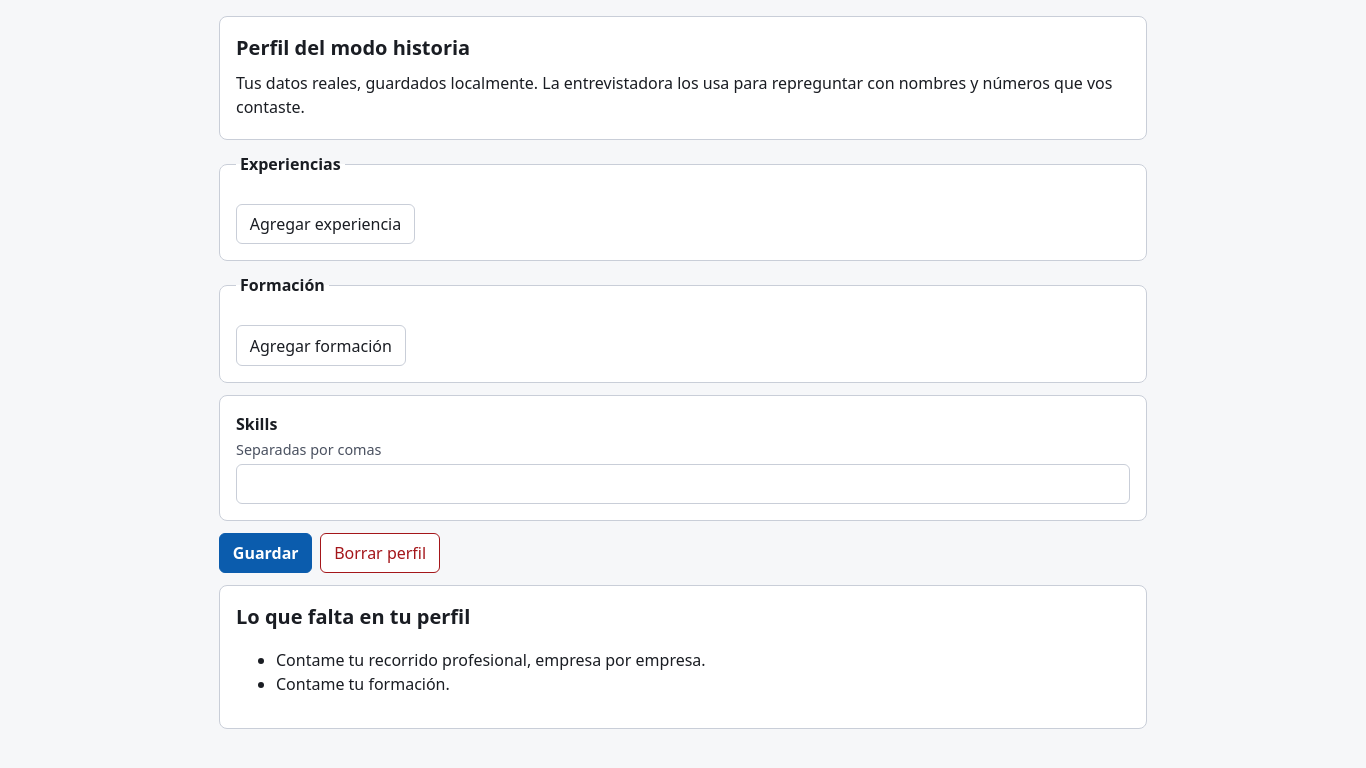
Test case: ProfilePage › 412 muestra conflicto con recarga; borrar pide confirmación
Click the button "Guardar" at (266, 553), box [219,533,312,574]
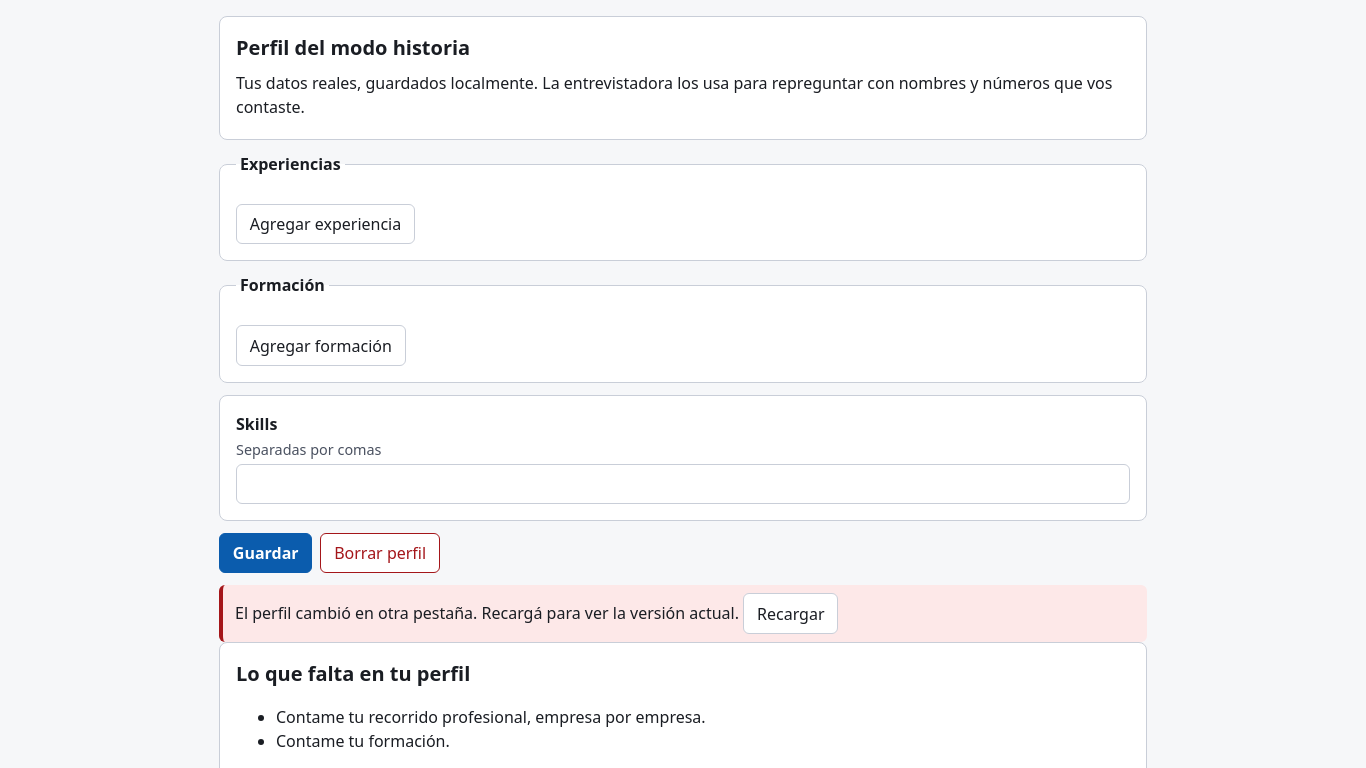
Expected: the text "El perfil cambió en otra pestaña. Recargá para ver la versión actual." is shown, [235,603,739,625]
Click the button "Recargar" at (791, 614), box [743,594,838,634]
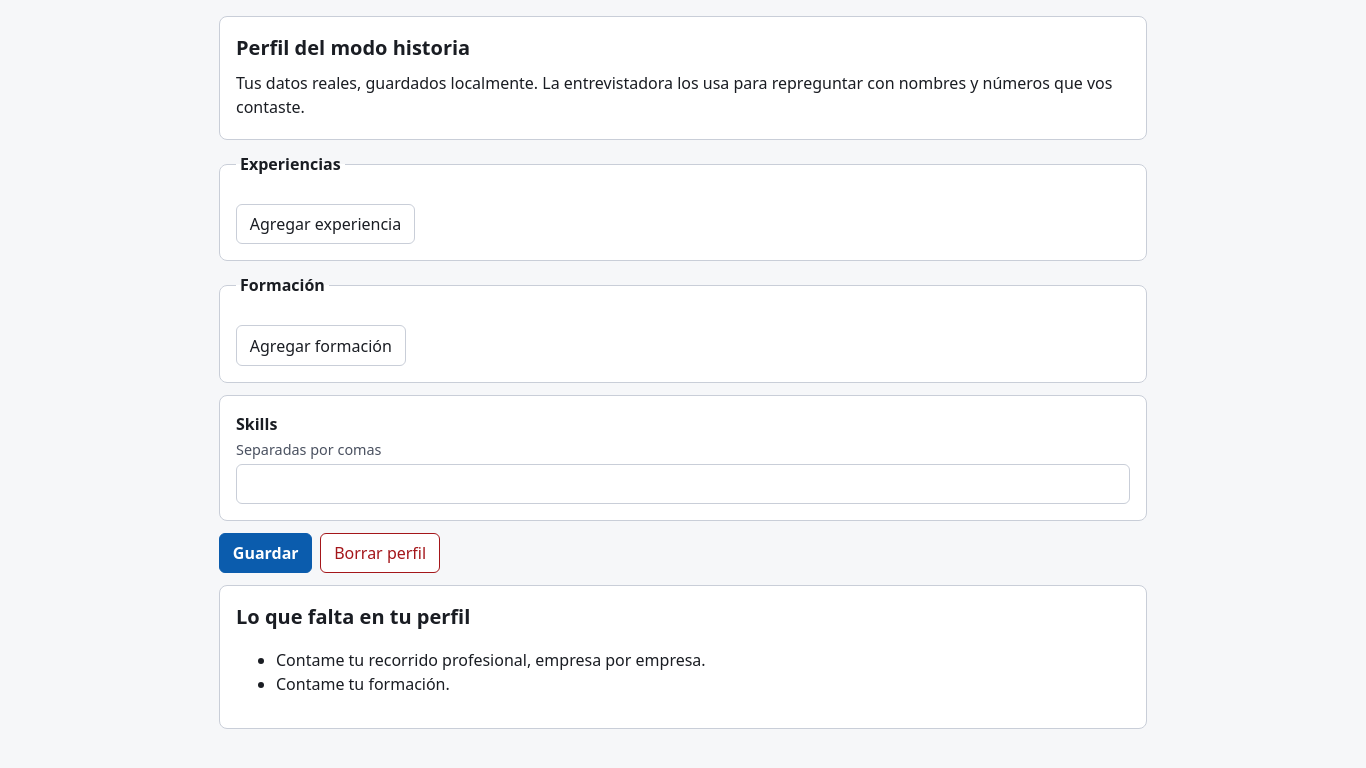
Click the button "Borrar perfil" at (380, 553), box [320,533,440,574]
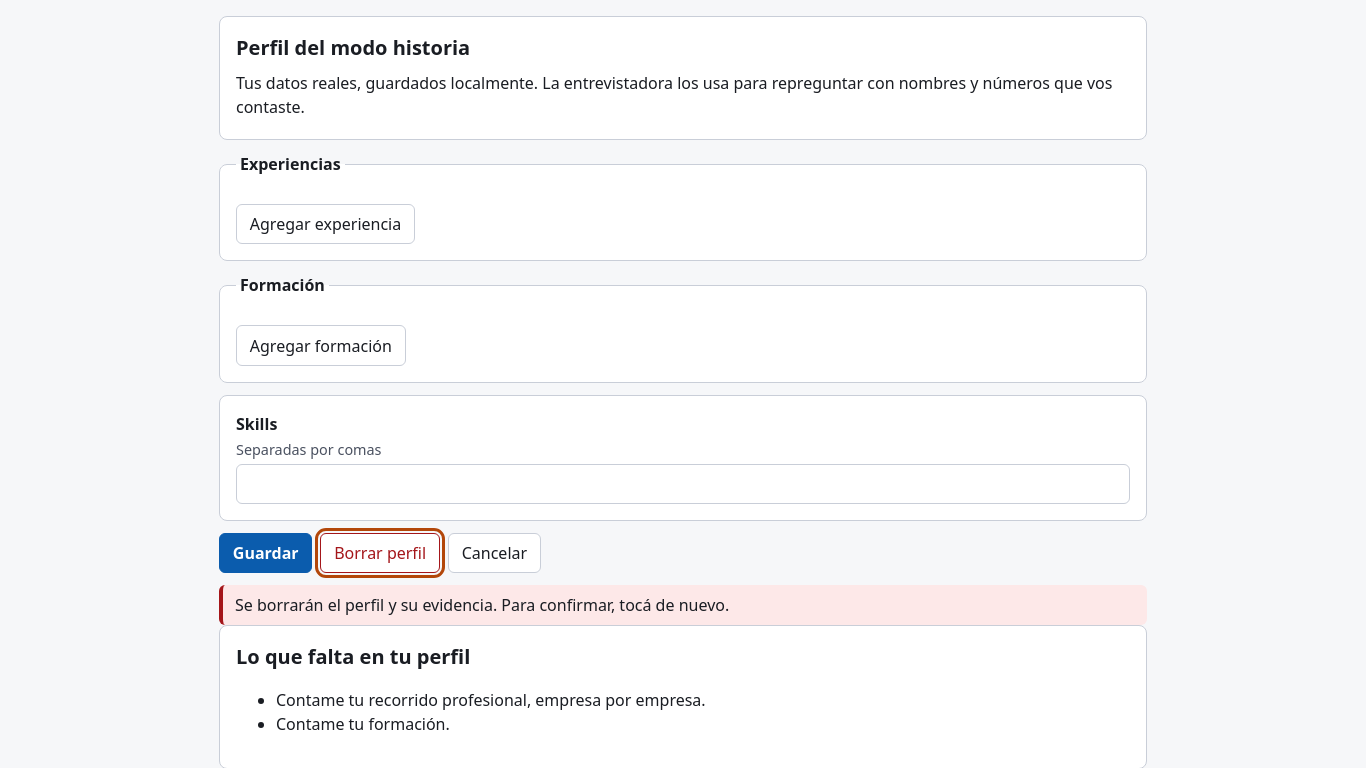
Expected: the message with test id "profile-msg" reads "Se borrarán el perfil y su evidencia. Para confirmar, tocá de nuevo.", [235,594,729,616]
Click the button "Borrar perfil" at (380, 553), box [320,533,440,574]
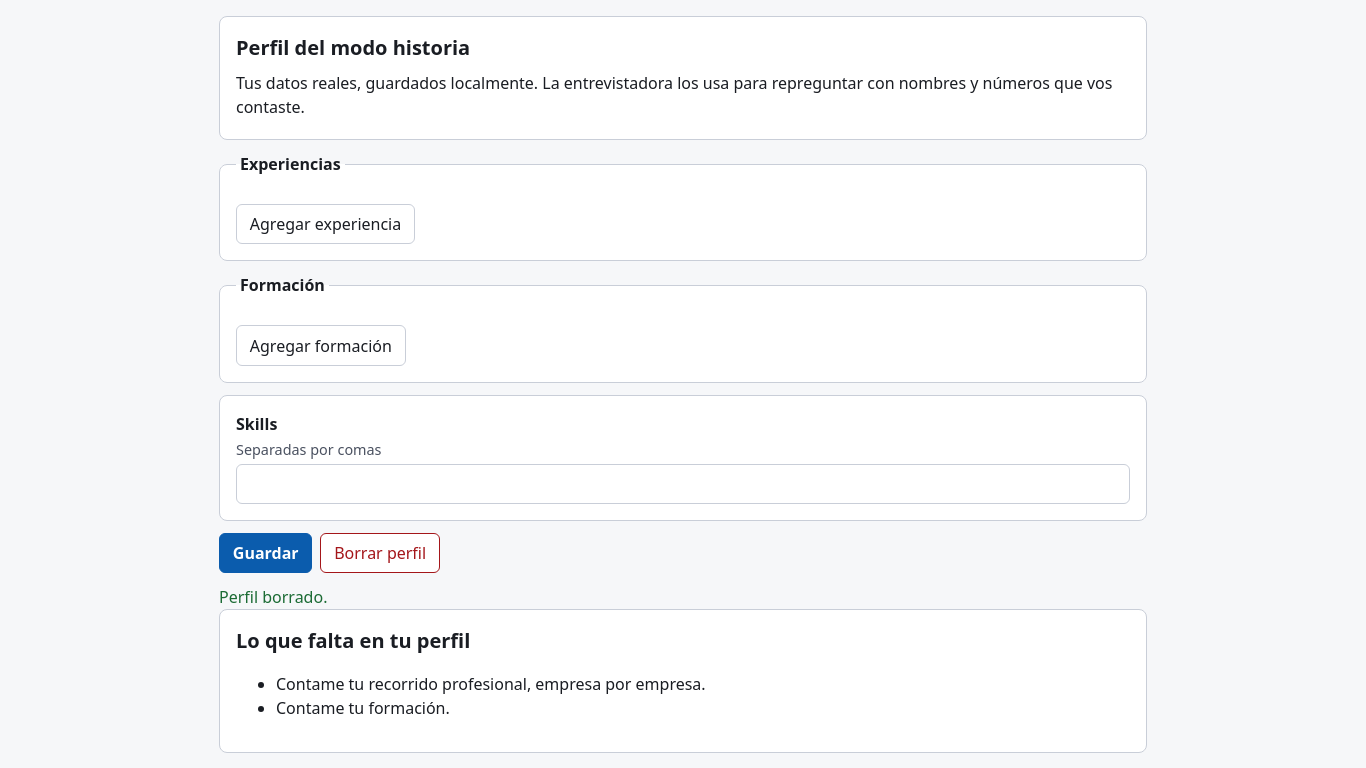
Expected: the message with test id "profile-msg" reads "Perfil borrado.", [219,586,327,608]
